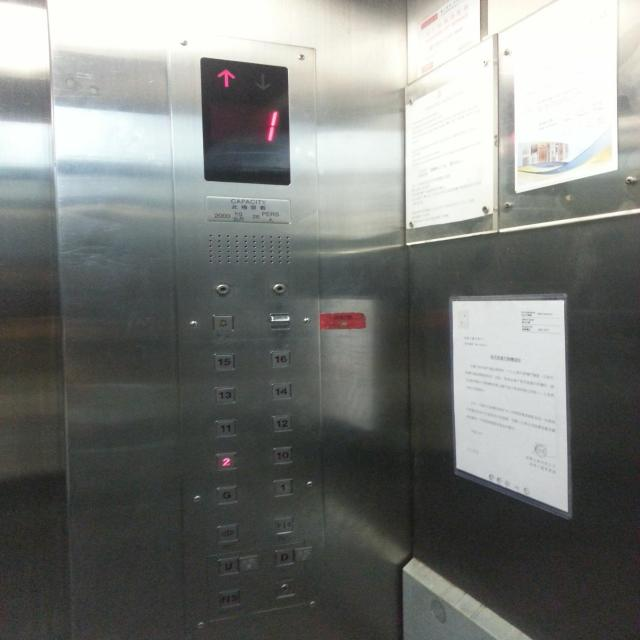10: (272, 446, 294, 464)
11: (272, 477, 294, 497), (213, 419, 236, 438)
12: (272, 413, 294, 432)
13: (213, 386, 236, 405)
14: (270, 382, 292, 401)
15: (212, 352, 235, 372)
16: (269, 350, 292, 369)
2: (214, 452, 237, 471)
D: (273, 547, 295, 567)
G: (215, 486, 237, 505)
U: (217, 556, 240, 576)
alarm: (212, 314, 234, 333)
blur: (218, 588, 240, 608), (270, 313, 290, 329)
close: (273, 515, 295, 535)
indicator: (212, 280, 230, 297), (270, 281, 287, 296)
keyhole: (274, 580, 296, 598)
led: (200, 58, 291, 185)
open: (216, 524, 239, 544)
